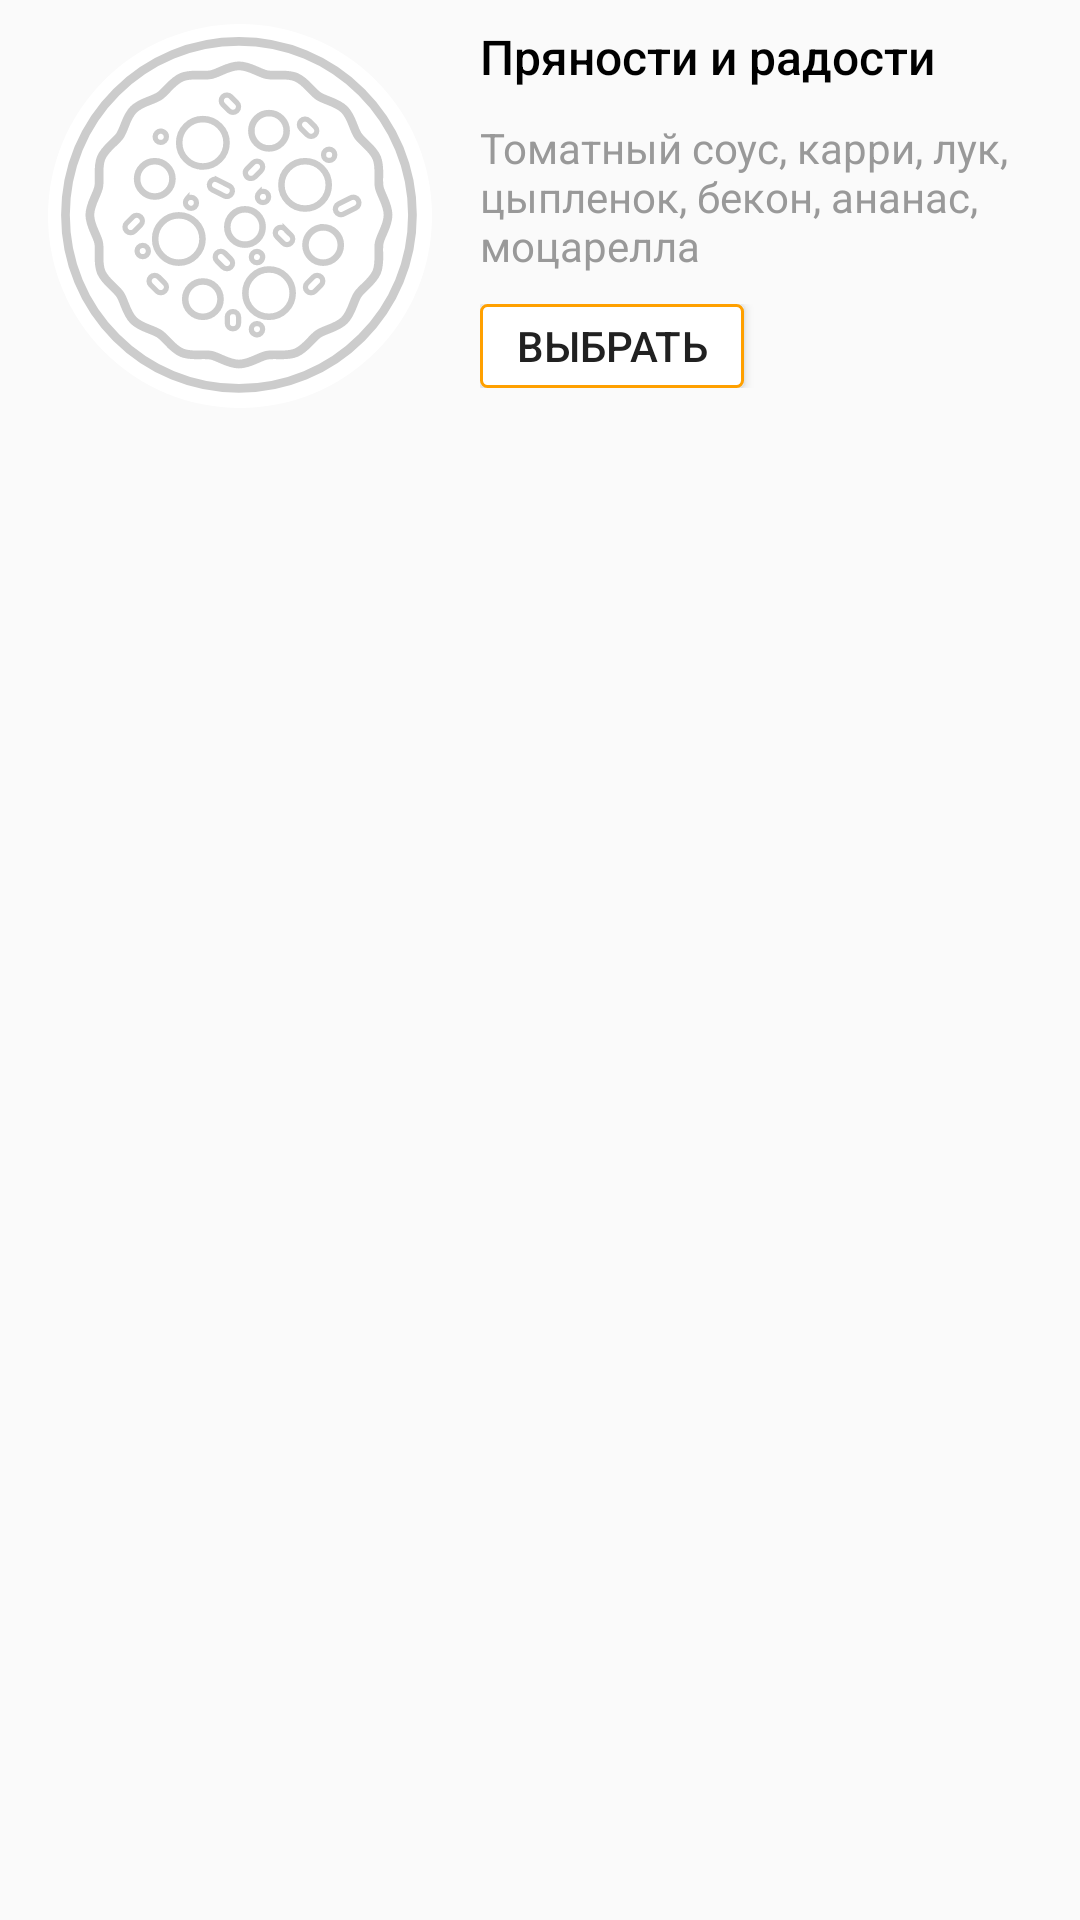

Named icons in this screenshot (1080×1920) and their centers, point (x, y):
pizza: point (239, 215)
